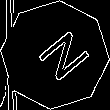N_SW: (22, 23, 88, 87)
